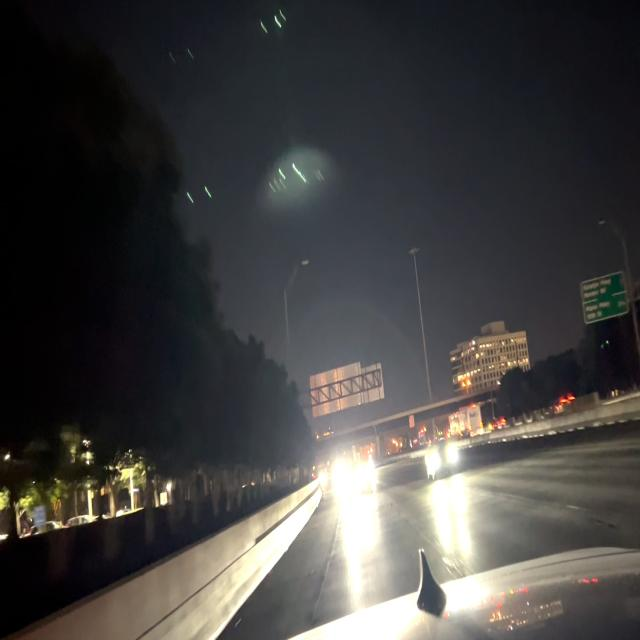back-of-sign: (311, 360, 385, 422)
